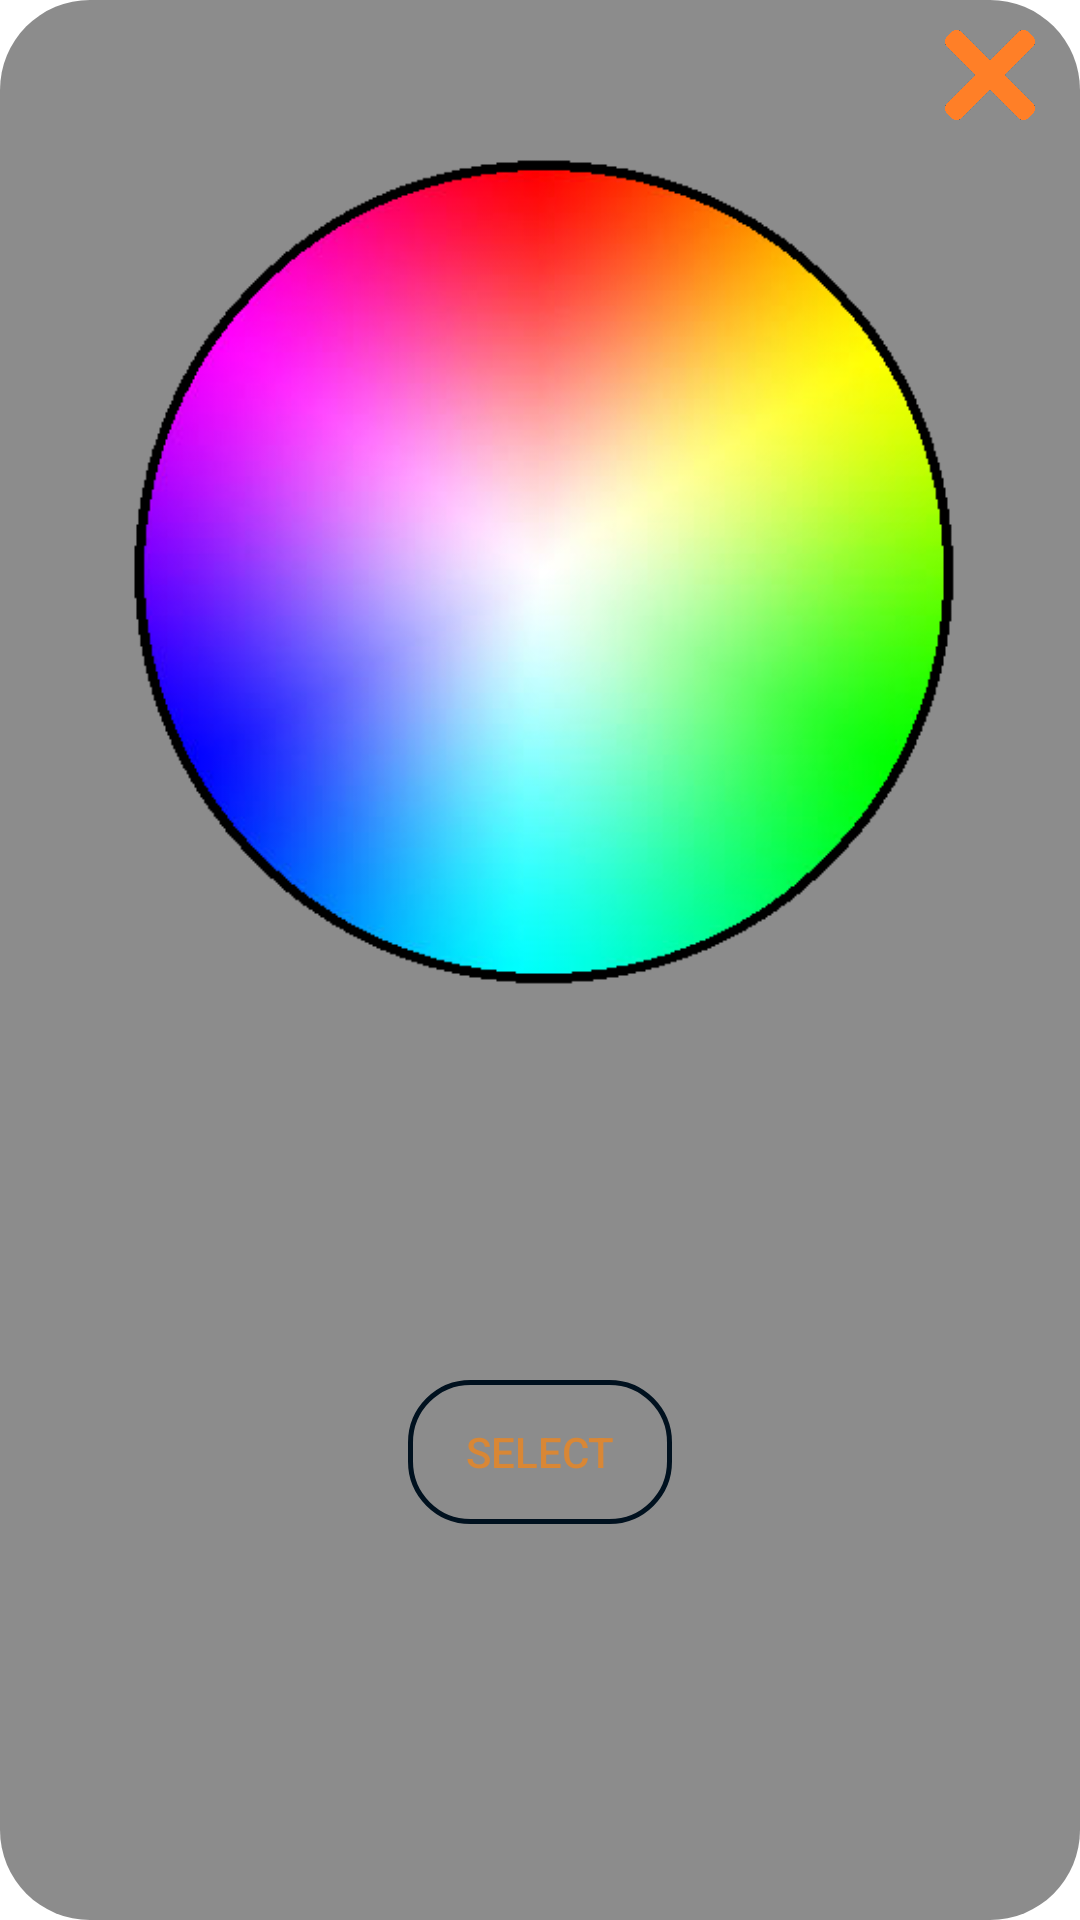

Icons on this 1080x1920 Android screen, each with the point to tap as [x,y]:
close: [990,75]
